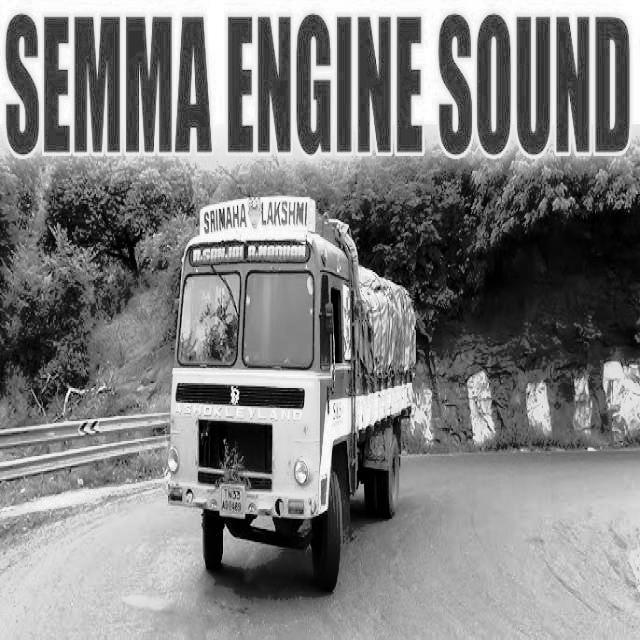HCV: (160, 167, 440, 614)
